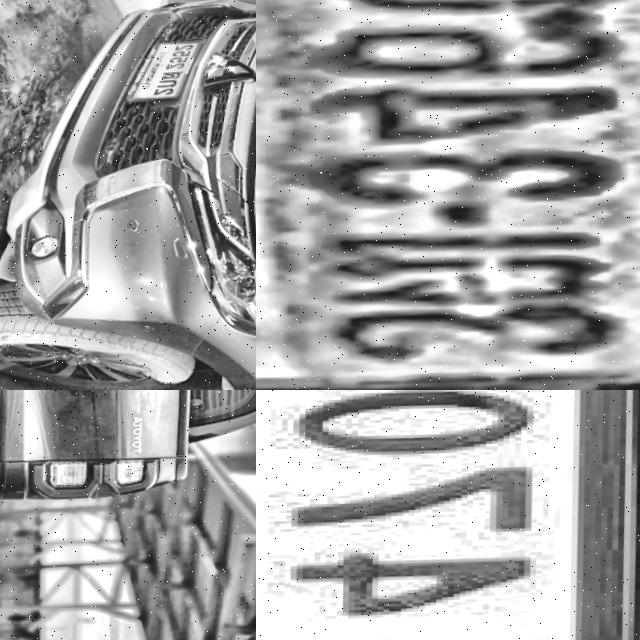license-plate: (256, 0, 640, 390), (256, 390, 640, 640), (120, 31, 213, 106)
